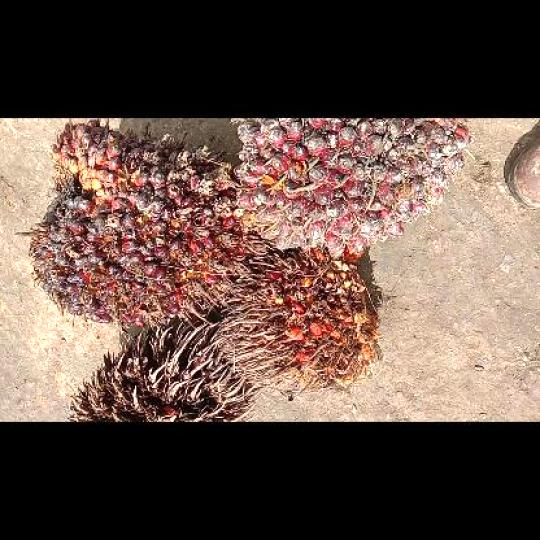kurang masak: (229, 119, 475, 255)
masak: (19, 121, 268, 326)
terlalu masak: (223, 247, 380, 399)
